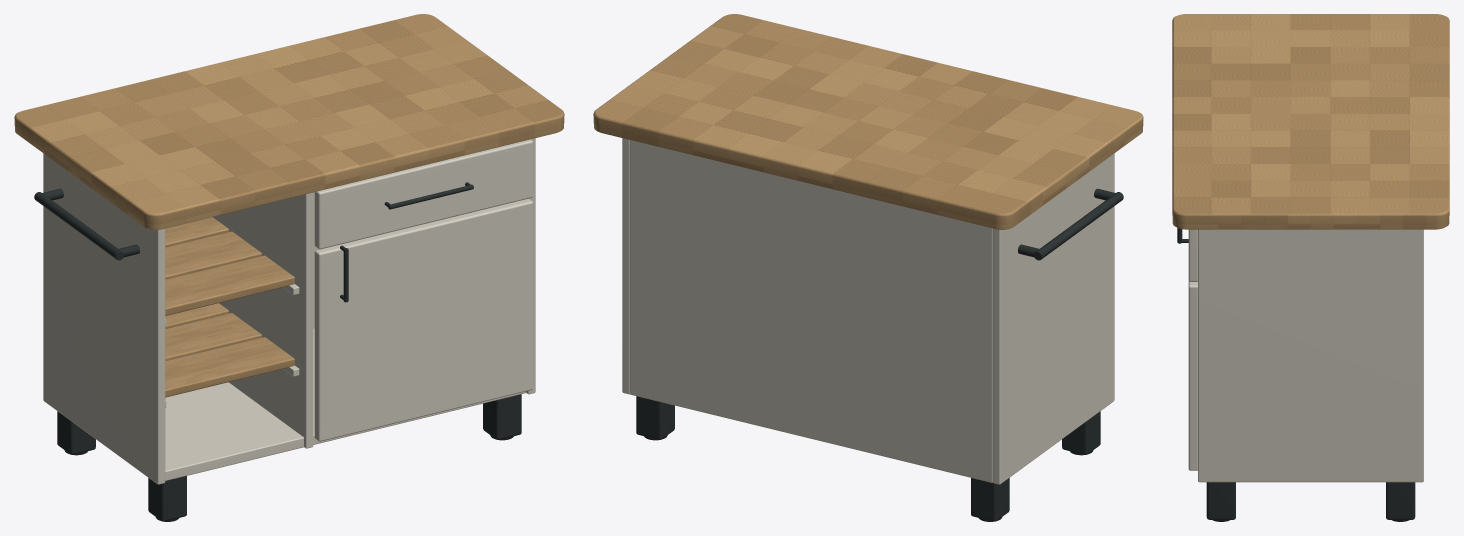
3 renders of one model, left to right at view 1: azimuth 30°, elevation 25°; view 2: azimuth 150°, elevation 25°; view 3: azimuth 270°, elevation 25°, orthographic.
Visible parts, largest first — view 1: End-grain butcher-block counter | 1200 x 700 x 45 mm, Lower cabinet door, Enamel cabinet side and partition, Enamel cabinet side and partition.001, Upper utility drawer front, Inset cabinet base, Open birch shelf slat.003, Open birch shelf slat, Open birch shelf slat.004, Open birch shelf slat.001, Inset plinth foot, Inset plinth foot.002 (+5 smaller); view 2: Ivory cabinet back, End-grain butcher-block counter | 1200 x 700 x 45 mm, Enamel cabinet side and partition, Enamel cabinet side and partition.002, Inset plinth foot.001, Inset plinth foot.003, Left side towel rail, Inset plinth foot, Enamel cabinet side and partition.001; view 3: End-grain butcher-block counter | 1200 x 700 x 45 mm, Enamel cabinet side and partition.002, Lower cabinet door, Inset plinth foot.002, Inset plinth foot.003, Upper utility drawer front.
Boxes of the visible parts, x1=… form: End-grain butcher-block counter | 1200 x 700 x 45 mm: x1=14, y1=14, x2=564, y2=229; Lower cabinet door: x1=314, y1=199, x2=533, y2=441; Enamel cabinet side and partition: x1=43, y1=153, x2=165, y2=484; Enamel cabinet side and partition.001: x1=213, y1=192, x2=313, y2=448; Upper utility drawer front: x1=314, y1=139, x2=533, y2=249; Inset cabinet base: x1=165, y1=328, x2=525, y2=480; Open birch shelf slat.003: x1=165, y1=255, x2=294, y2=315; Open birch shelf slat: x1=165, y1=337, x2=294, y2=397; Open birch shelf slat.004: x1=165, y1=231, x2=261, y2=279; Open birch shelf slat.001: x1=165, y1=313, x2=261, y2=361; Inset plinth foot: x1=148, y1=476, x2=186, y2=521; Inset plinth foot.002: x1=483, y1=394, x2=521, y2=439; Ivory cabinet back: x1=629, y1=140, x2=992, y2=482; End-grain butcher-block counter | 1200 x 700 x 45 mm: x1=593, y1=14, x2=1143, y2=229; Enamel cabinet side and partition: x1=992, y1=153, x2=1114, y2=484; Enamel cabinet side and partition.002: x1=622, y1=138, x2=629, y2=394; Inset plinth foot.001: x1=971, y1=478, x2=1009, y2=521; Inset plinth foot.003: x1=636, y1=396, x2=674, y2=439; Left side towel rail: x1=1034, y1=192, x2=1123, y2=260; Inset plinth foot: x1=1062, y1=411, x2=1100, y2=454; Enamel cabinet side and partition.001: x1=845, y1=193, x2=850, y2=447; End-grain butcher-block counter | 1200 x 700 x 45 mm: x1=1172, y1=14, x2=1449, y2=229; Enamel cabinet side and partition.002: x1=1198, y1=229, x2=1423, y2=482; Lower cabinet door: x1=1188, y1=281, x2=1197, y2=470; Inset plinth foot.002: x1=1206, y1=482, x2=1235, y2=519; Inset plinth foot.003: x1=1386, y1=482, x2=1415, y2=519; Upper utility drawer front: x1=1188, y1=229, x2=1197, y2=281.
Size of the model in its own units: 1.21 by 0.9 by 0.7.
9 materials, 3 textured.
